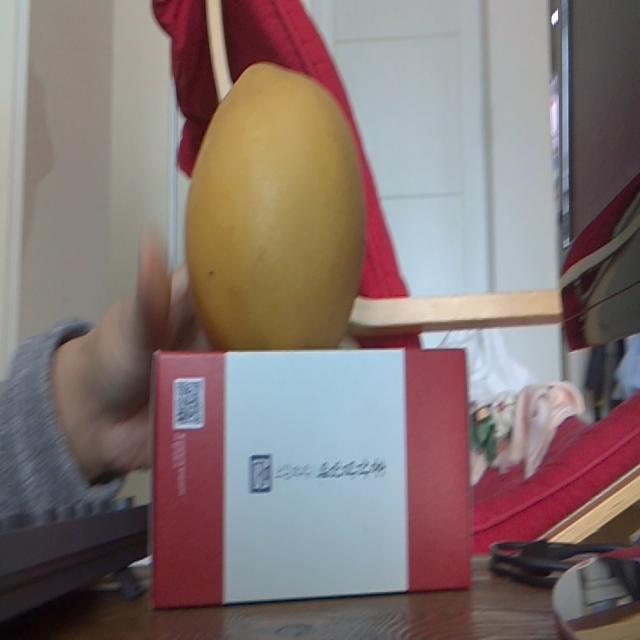pear: (184, 61, 366, 348)
